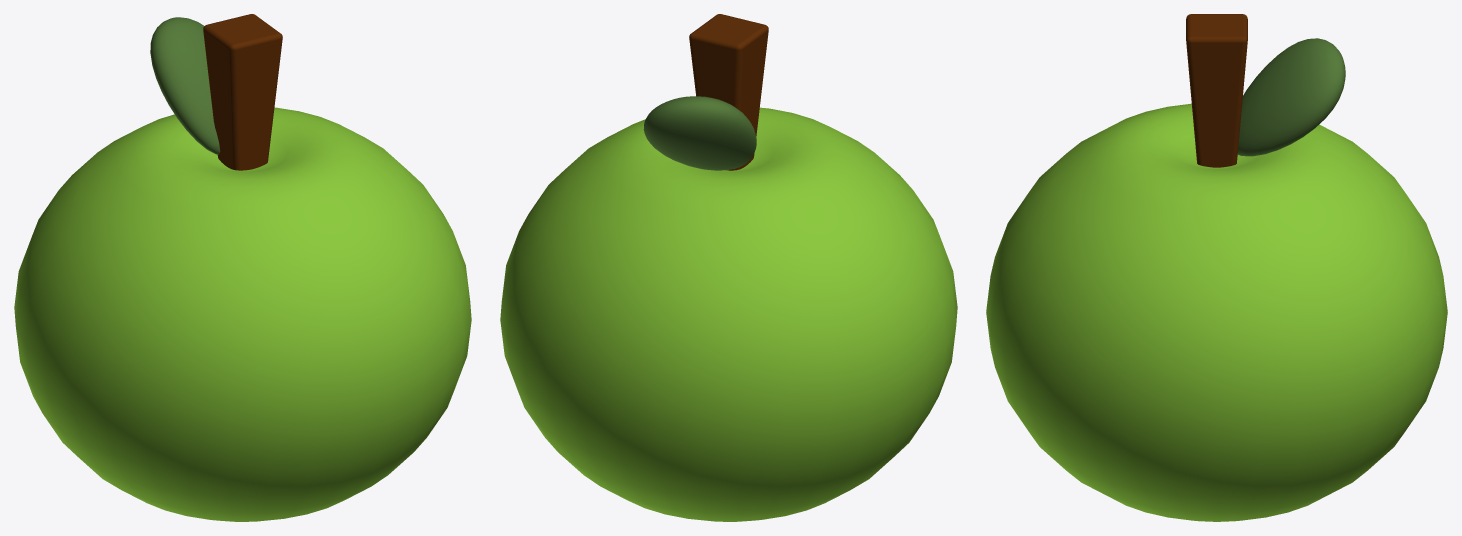
The model's file is badapple.glb.
3 views of the same model, side by side, from view 1: azimuth 30°, elevation 25°; view 2: azimuth 150°, elevation 25°; view 3: azimuth 270°, elevation 25° (orthographic).
Visible parts, largest first — view 1: apple; view 2: apple; view 3: apple.
Part boxes in pixels (box(x1,y1,x2,y2)): apple: box(14, 14, 471, 521); apple: box(500, 14, 957, 521); apple: box(986, 14, 1447, 521).
Bounding box in the file's own units: 0.8879 × 0.9738 × 0.8879.
